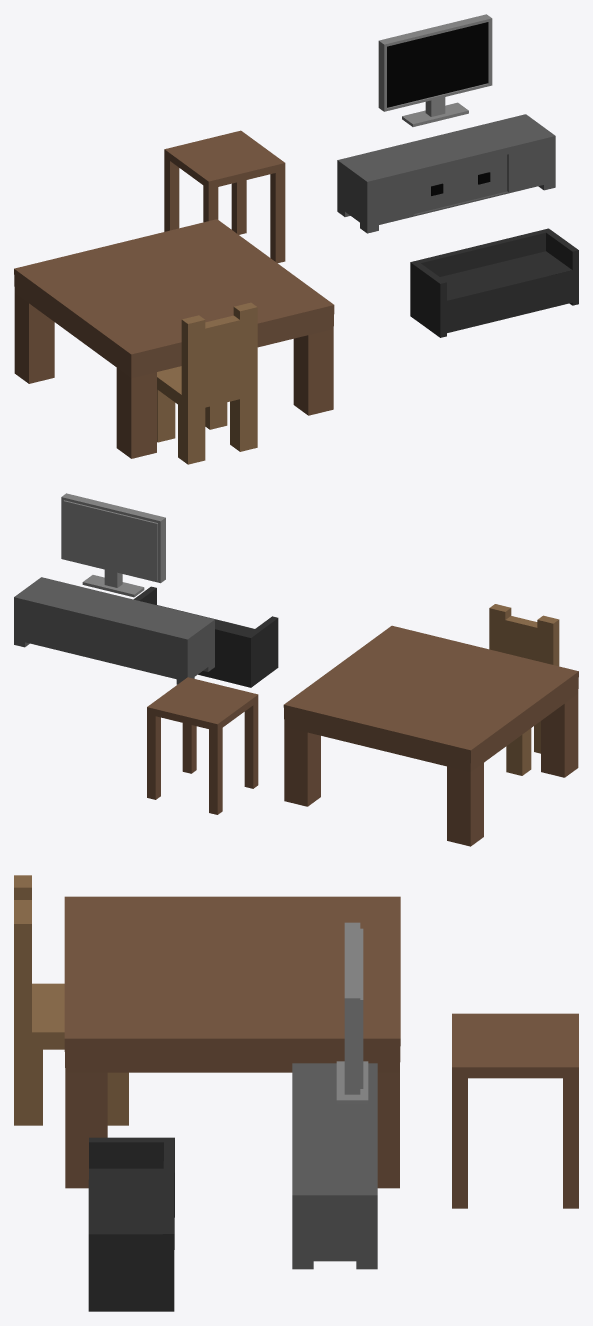
Rendered from Furniture.fbx.
The picture shows the model from 3 angles, top to bottom: view 1: azimuth 30°, elevation 25°; view 2: azimuth 150°, elevation 25°; view 3: azimuth 270°, elevation 25°; orthographic projection. The views are drawn at different scales.
Parts seen in each view (by area): view 1: Table, Tvstand, Coach, Chair, TV, SmallTable; view 2: Table, Tvstand, SmallTable, TV, Chair, Coach; view 3: Table, Tvstand, Coach, SmallTable, Chair, TV.
Part boxes in pixels (bbox=[...]): Table: bbox=[14, 219, 334, 458]; Tvstand: bbox=[337, 114, 555, 233]; Coach: bbox=[410, 228, 578, 337]; Chair: bbox=[157, 302, 257, 464]; TV: bbox=[378, 14, 492, 126]; SmallTable: bbox=[164, 130, 285, 263]; Table: bbox=[283, 625, 578, 846]; Tvstand: bbox=[14, 577, 214, 684]; SmallTable: bbox=[147, 677, 258, 814]; TV: bbox=[61, 493, 165, 597]; Chair: bbox=[489, 604, 559, 775]; Coach: bbox=[133, 586, 278, 687]; Table: bbox=[64, 896, 400, 1188]; Tvstand: bbox=[292, 1063, 377, 1269]; Coach: bbox=[88, 1137, 174, 1311]; SmallTable: bbox=[452, 1013, 578, 1208]; Chair: bbox=[14, 875, 128, 1125]; TV: bbox=[336, 922, 368, 1104].
Size of the model in its own units: 1953 by 961 by 1324.
